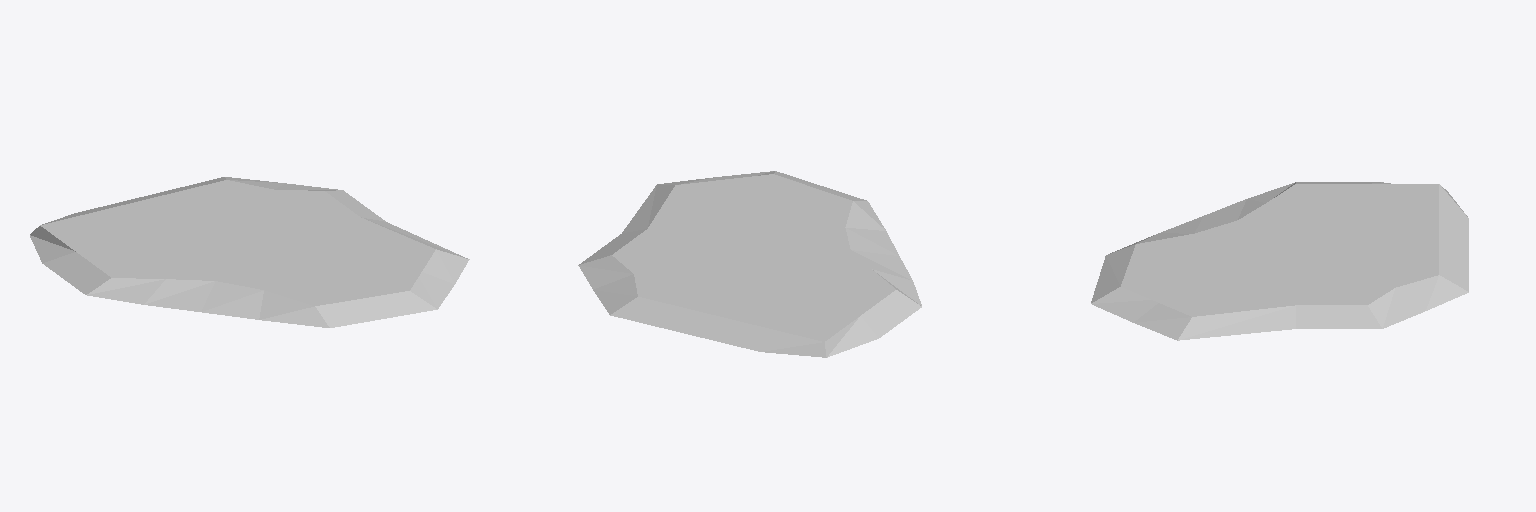
The model's file is island.obj.
3 views of the same model, side by side, from view 1: azimuth 30°, elevation 25°; view 2: azimuth 150°, elevation 25°; view 3: azimuth 270°, elevation 25° (orthographic).
Visible parts, largest first — view 1: Plane.001; view 2: Plane.001; view 3: Plane.001.
Boxes of the visible parts, x1,y1,x2,y2 form: Plane.001: [30, 177, 469, 327]; Plane.001: [578, 171, 921, 357]; Plane.001: [1091, 182, 1468, 340].
Size of the model in its own units: 21.59 by 0.7012 by 21.82.